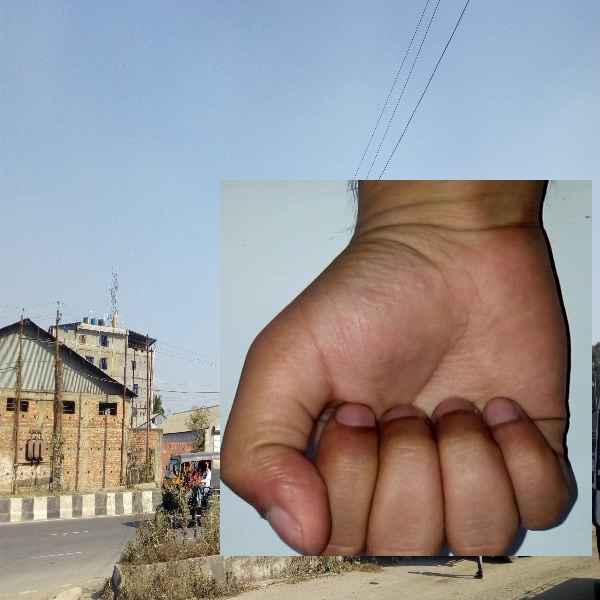A: (220, 180, 592, 556)
